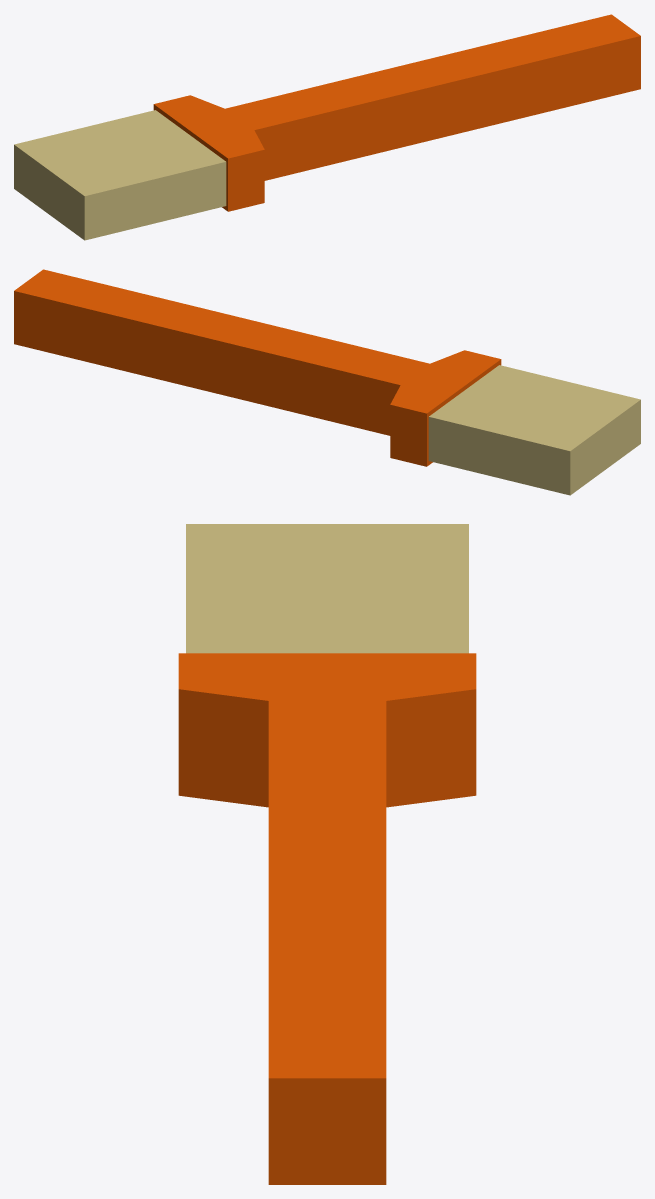
The model's file is paintbrush2.fbx.
The picture shows the model from 3 angles, top to bottom: view 1: azimuth 30°, elevation 25°; view 2: azimuth 150°, elevation 25°; view 3: azimuth 270°, elevation 25°; orthographic projection. The views are drawn at different scales.
Parts seen in each view (by area): view 1: Cube; view 2: Cube; view 3: Cube.
Boxes of the visible parts, x1=… form: Cube: x1=14, y1=14, x2=640, y2=240; Cube: x1=14, y1=269, x2=640, y2=495; Cube: x1=178, y1=524, x2=476, y2=1184.
Bounding box in the file's own units: 93.65 × 8.26 × 20.92.
